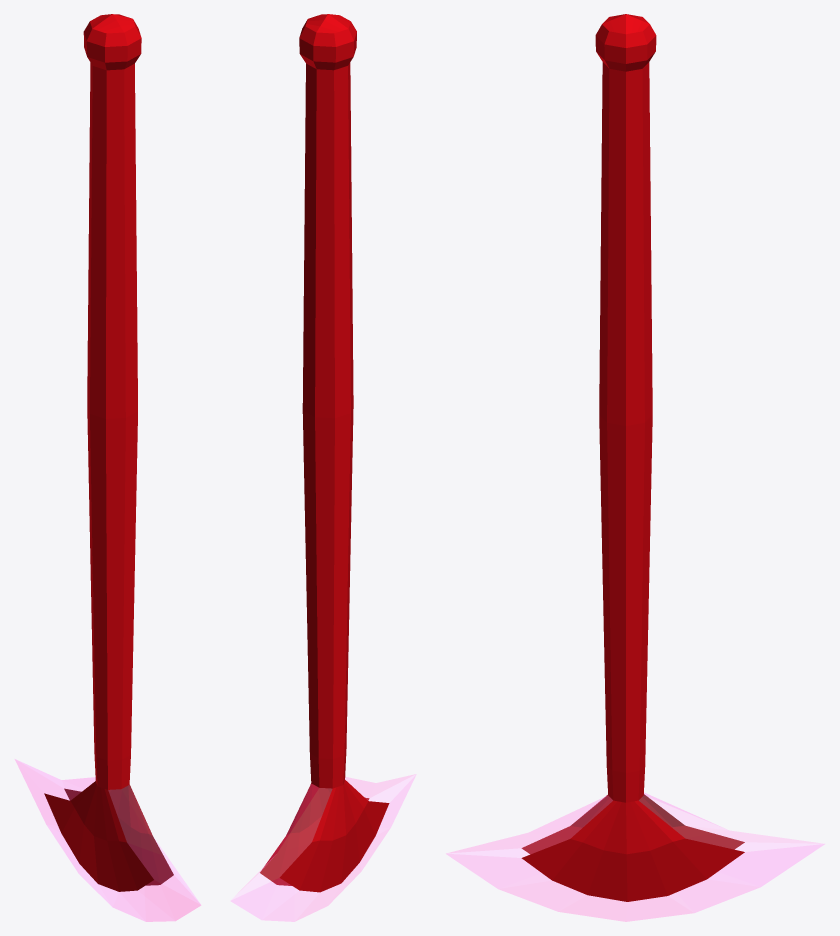
File: axe.fbx
The picture shows the model from 3 angles, left to right: view 1: azimuth 30°, elevation 25°; view 2: azimuth 150°, elevation 25°; view 3: azimuth 270°, elevation 25°; orthographic projection.
Visible parts, largest first — view 1: axe; view 2: axe; view 3: axe.
Part boxes in pixels (x1,y1,x2,y2): axe: (15,14,200,921); axe: (231,14,416,921); axe: (446,14,824,921).
Size of the model in its own units: 113 by 1856 by 705.
